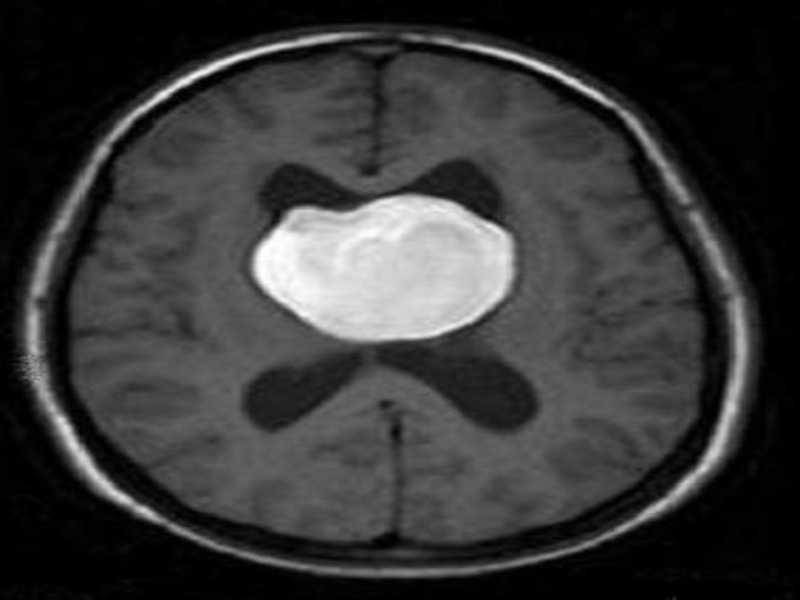tumor: (236, 186, 529, 353)
